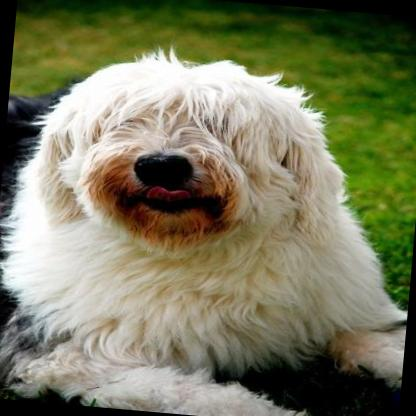Old_English_sheepdog: (0, 32, 416, 416)
